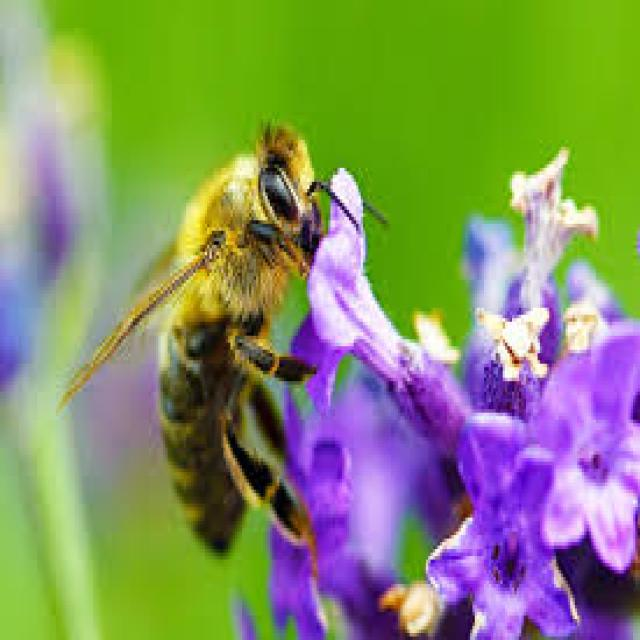Bees: (54, 120, 392, 578)
